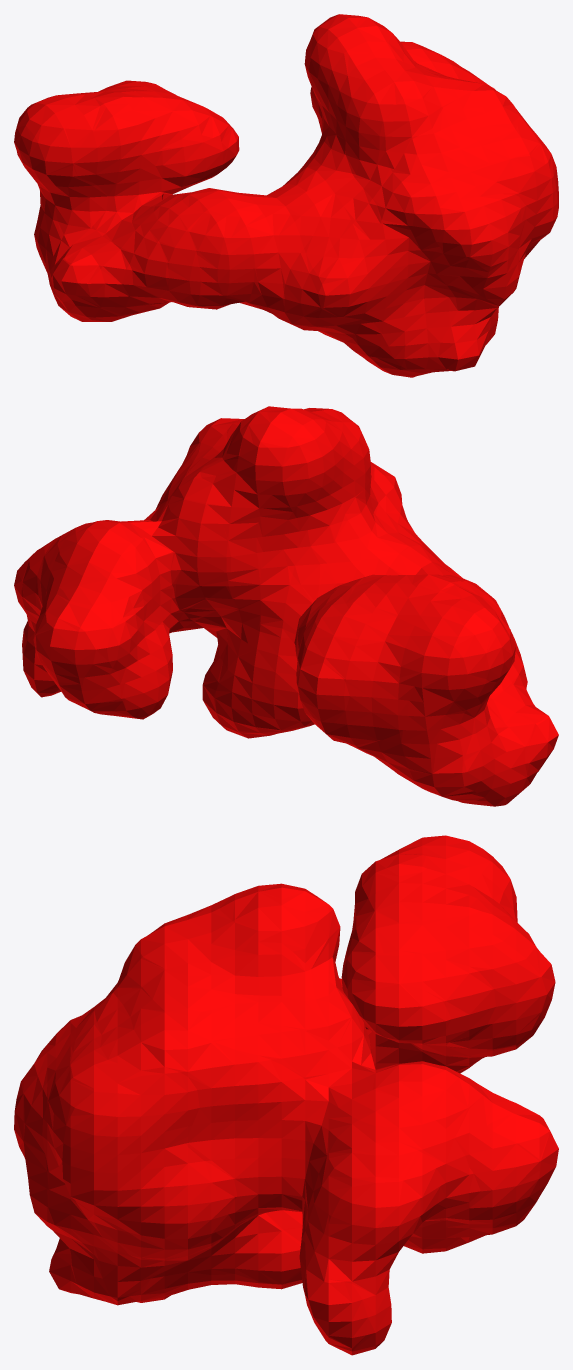
Rendered from recR_coarse.dae.
3 renders of one model, top to bottom at view 1: azimuth 30°, elevation 25°; view 2: azimuth 150°, elevation 25°; view 3: azimuth 270°, elevation 25°, orthographic. The views are drawn at different scales.
Parts seen in each view (by area): view 1: recR; view 2: recR; view 3: recR.
Boxes of the visible parts, left/top/right/bottom form: recR: left=14, top=14, right=558, bottom=377; recR: left=14, top=406, right=558, bottom=806; recR: left=14, top=835, right=558, bottom=1355.
Bounding box in the file's own units: 70.81 × 45.15 × 54.85.
